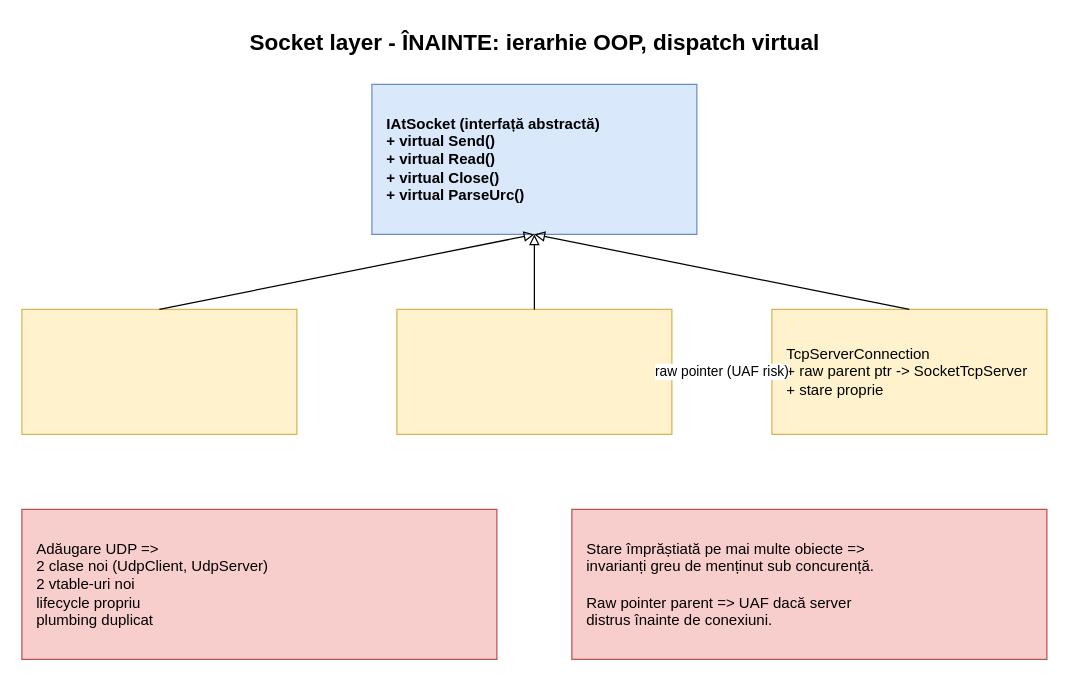
Image size: 1069x681. Some labels were removed from this diagram. Here are the shapes that lost their labels. From the top down, the centre of each, then its label:
pixel 159 371: SocketTcpClient + stare proprie + mutex propriu
pixel 534 371: SocketTcpServer + stare proprie + mutex propriu
